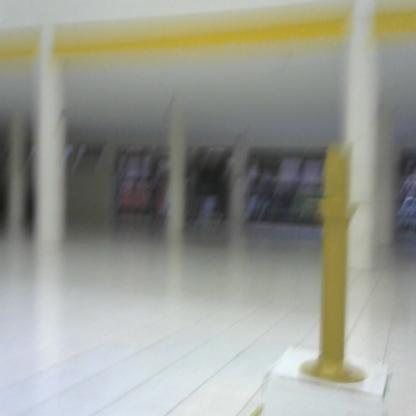pole: (300, 141, 372, 392)
